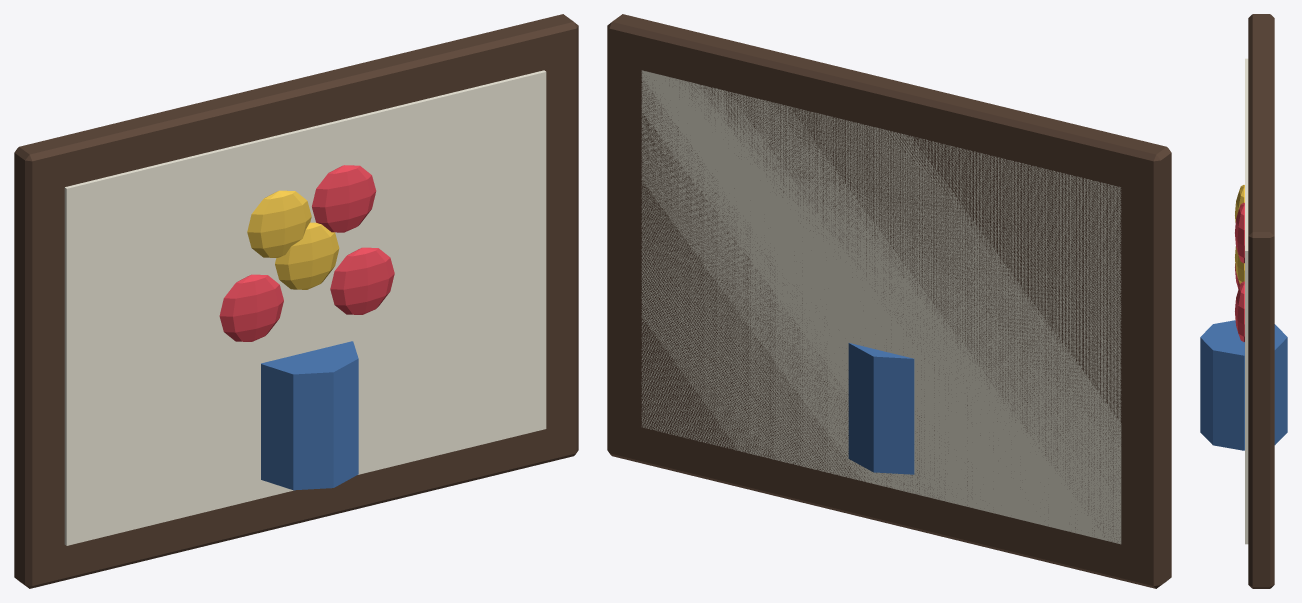
Rendered from wall_art_flowers.fbx.
The picture shows the model from 3 angles, left to right: view 1: azimuth 30°, elevation 25°; view 2: azimuth 150°, elevation 25°; view 3: azimuth 270°, elevation 25°; orthographic projection. The views are drawn at different scales.
Visible parts, largest first — view 1: wall_art_flowers; view 2: wall_art_flowers; view 3: wall_art_flowers.
Part boxes in pixels (box(x1,y1,x2,y2)): wall_art_flowers: box(14, 14, 578, 588); wall_art_flowers: box(607, 14, 1171, 588); wall_art_flowers: box(1200, 14, 1287, 588).
Bounding box in the file's own units: 0.6 × 0.45 × 0.1.
